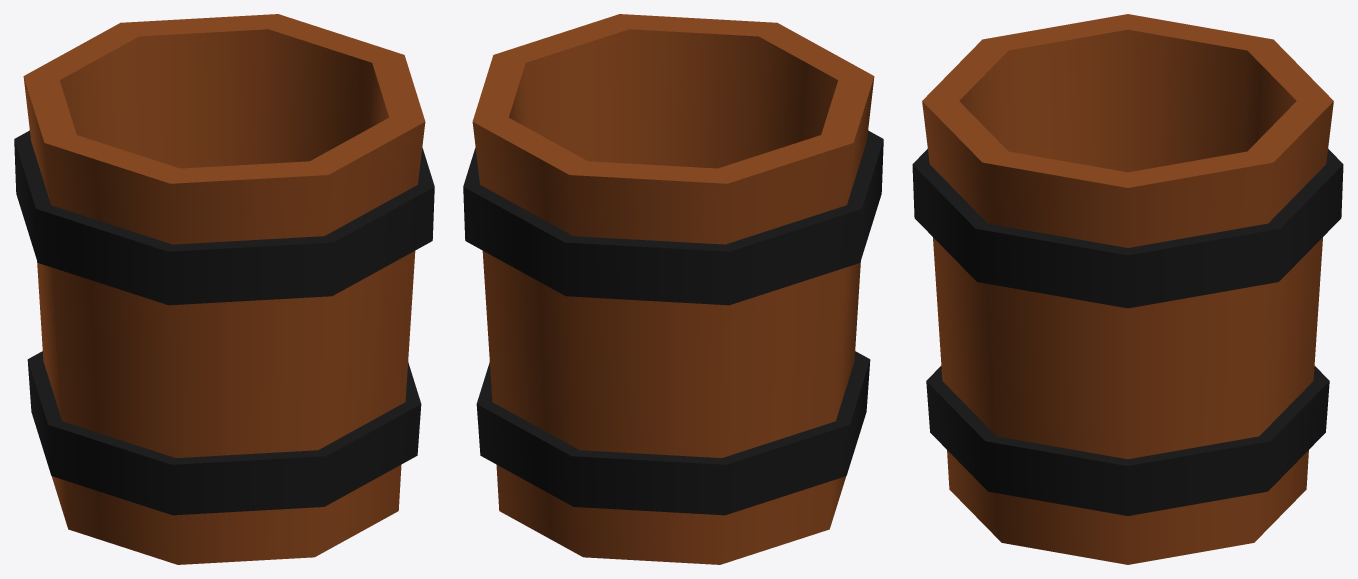
File: bucket_empty.FBX
3 views of the same model, side by side, from view 1: azimuth 30°, elevation 25°; view 2: azimuth 150°, elevation 25°; view 3: azimuth 270°, elevation 25° (orthographic).
Visible parts, largest first — view 1: Zylinder001; view 2: Zylinder001; view 3: Zylinder001.
Part boxes in pixels (x1,y1,x2,y2): Zylinder001: (14,14,434,564); Zylinder001: (463,14,883,564); Zylinder001: (912,14,1343,564).
Size of the model in its own units: 0.2586 by 0.2586 by 0.2572.
